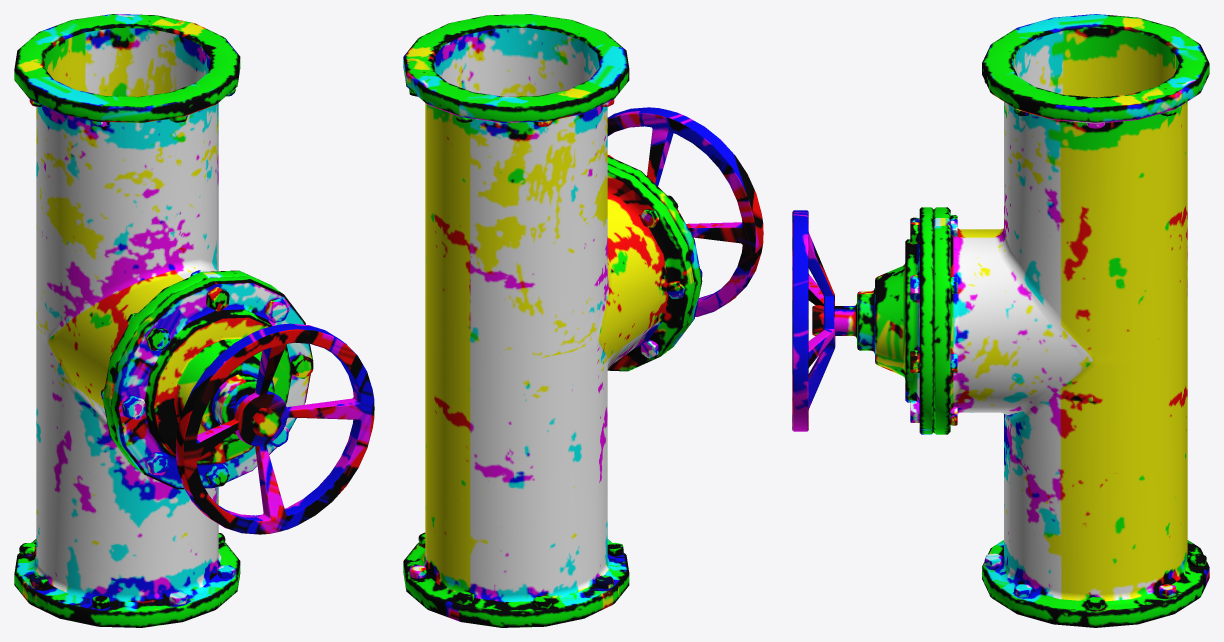
File: sm_PipeValve_01_01.fbx
3 views of the same model, side by side, from view 1: azimuth 30°, elevation 25°; view 2: azimuth 150°, elevation 25°; view 3: azimuth 270°, elevation 25° (orthographic).
Visible parts, largest first — view 1: sm_PipeValve_01_01_LOD0; view 2: sm_PipeValve_01_01_LOD0; view 3: sm_PipeValve_01_01_LOD0.
Boxes of the visible parts, left/top/right/bottom form: sm_PipeValve_01_01_LOD0: left=14, top=14, right=374, bottom=627; sm_PipeValve_01_01_LOD0: left=403, top=14, right=763, bottom=627; sm_PipeValve_01_01_LOD0: left=792, top=14, right=1209, bottom=627.
Size of the model in its own units: 29.76 by 54.52 by 75.
